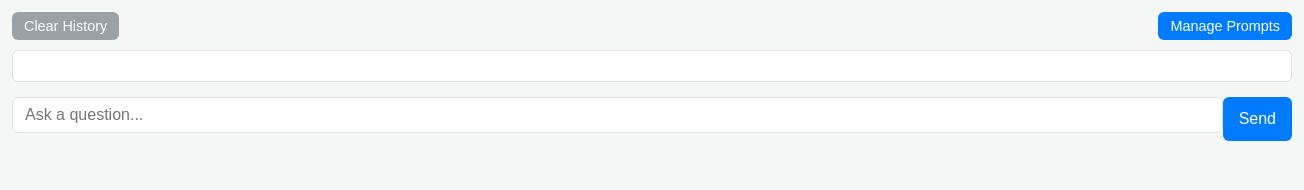
Test: ChatInterface Component › shows error if submitting an empty question
What coordinates should you click on to do the following:
click the button "Send"
I would click on:
 (1257, 119)
Its box is [1223,97,1292,141].
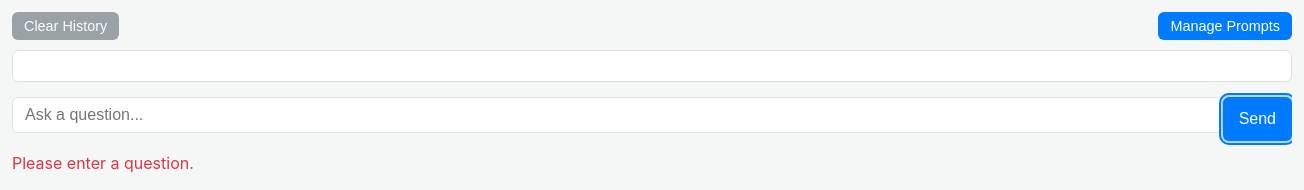
Expected: the text "Please enter a question." is shown, [12,153,194,173]
